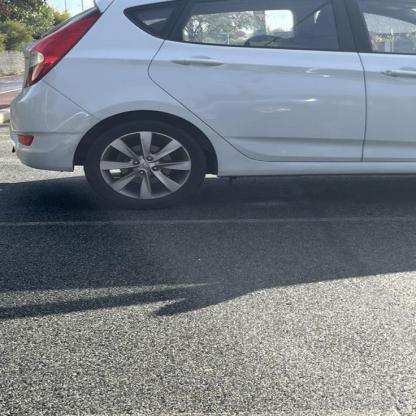Tire: (83, 118, 206, 210)
